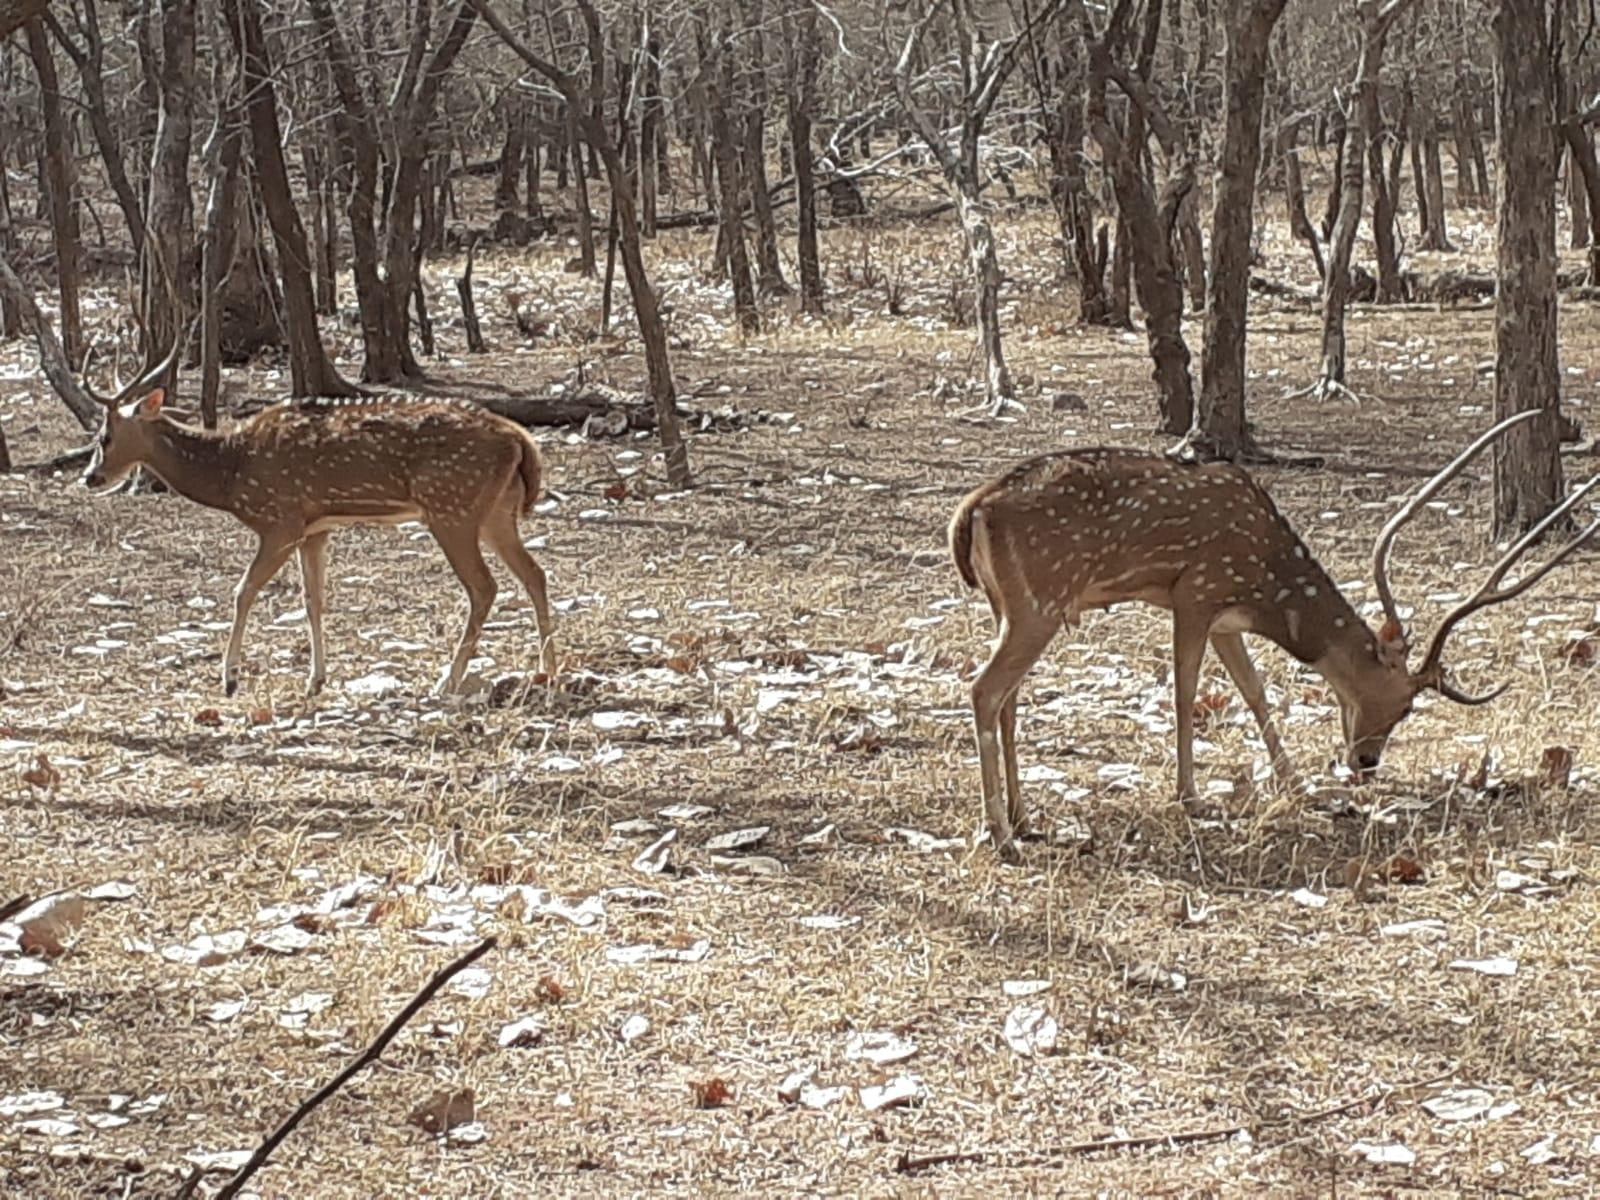Deer: (947, 411, 1599, 855), (83, 334, 556, 696)
